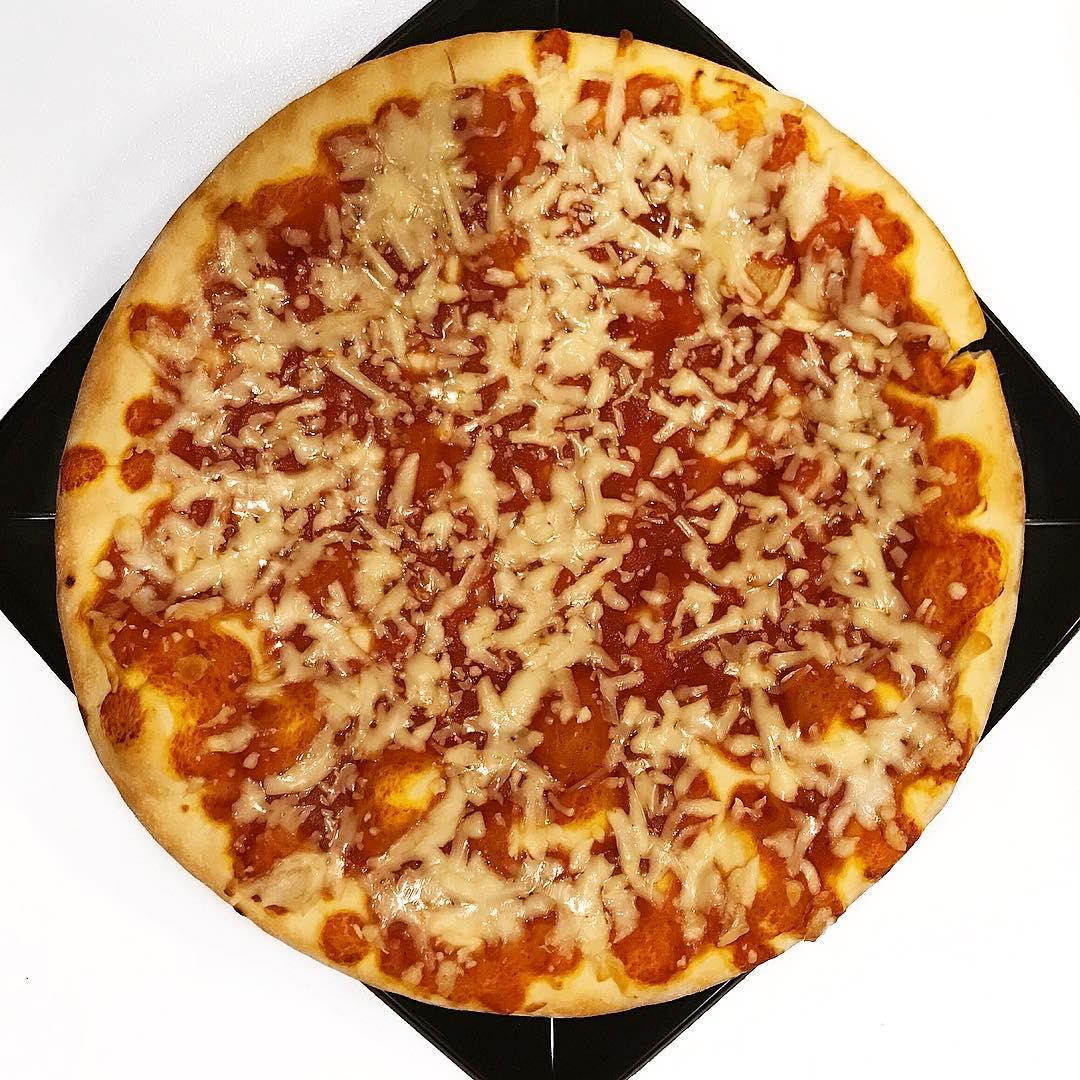Cheese: (626, 127, 753, 276), (496, 493, 585, 644), (365, 127, 450, 260), (387, 861, 518, 936), (208, 474, 280, 581)
Pizza: (55, 27, 1028, 1019)
